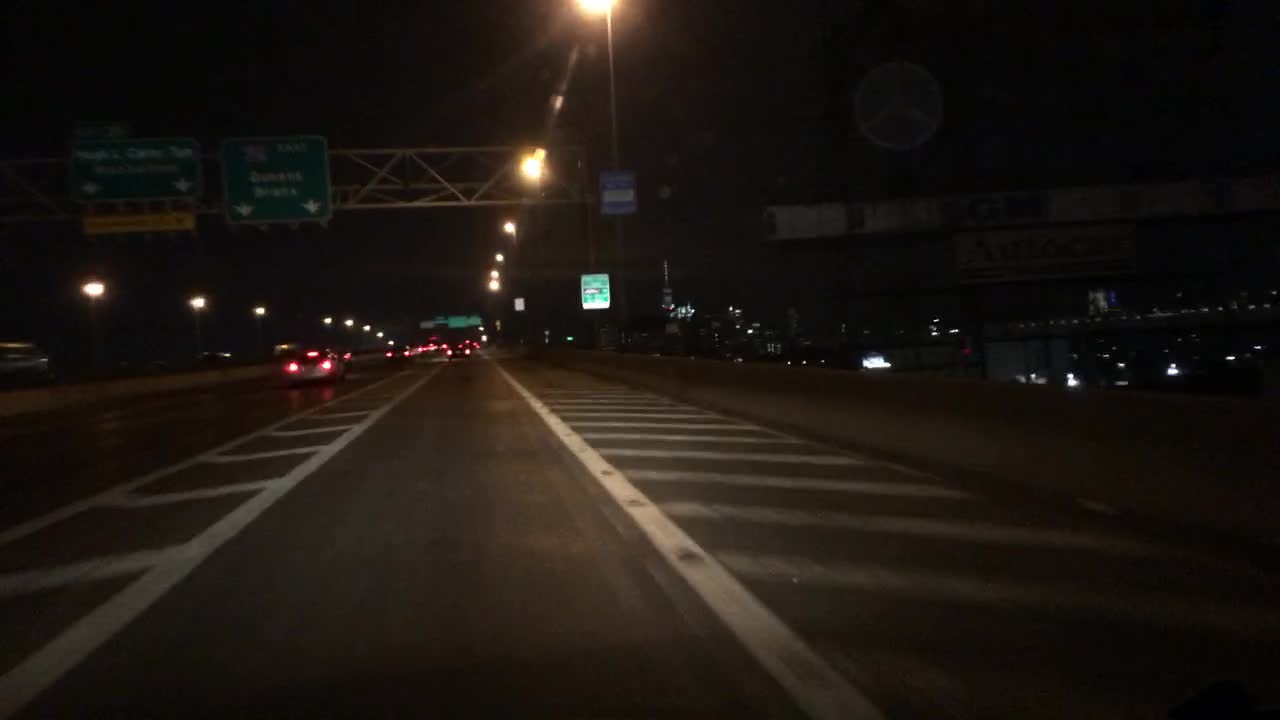car: (276, 346, 346, 383), (1, 340, 49, 386), (189, 345, 233, 368), (442, 342, 474, 357), (386, 343, 412, 361), (417, 339, 437, 355)
traffic sign: (76, 138, 193, 231), (217, 136, 331, 225), (600, 172, 635, 216), (579, 272, 610, 308), (446, 313, 468, 329), (466, 314, 479, 328), (514, 296, 524, 310), (420, 320, 436, 328), (434, 316, 444, 325)
